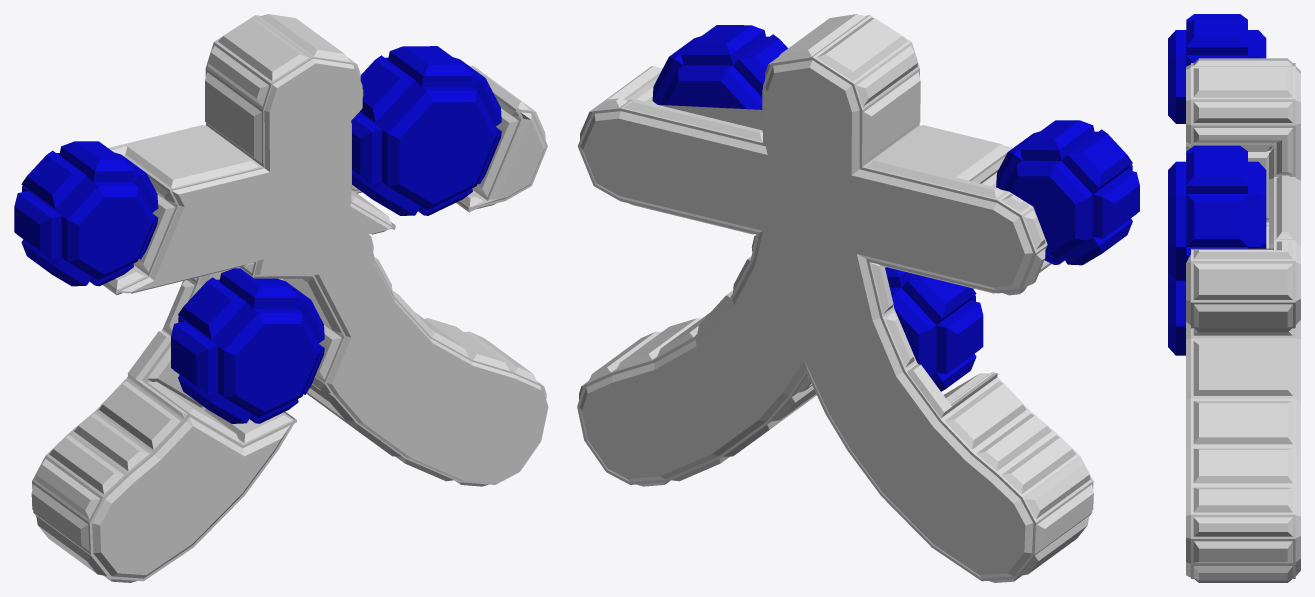
File: Ch_China_大_01.fbx
The picture shows the model from 3 angles, left to right: view 1: azimuth 30°, elevation 25°; view 2: azimuth 150°, elevation 25°; view 3: azimuth 270°, elevation 25°; orthographic projection. The views are drawn at different scales.
Visible parts, largest first — view 1: sphere1; view 2: sphere1; view 3: sphere1.
Boxes of the visible parts, x1=… form: sphere1: x1=14, y1=14, x2=548, y2=582; sphere1: x1=577, y1=14, x2=1139, y2=582; sphere1: x1=1168, y1=14, x2=1300, y2=582.
Size of the model in its own units: 1.02 by 0.9332 by 0.2541.
